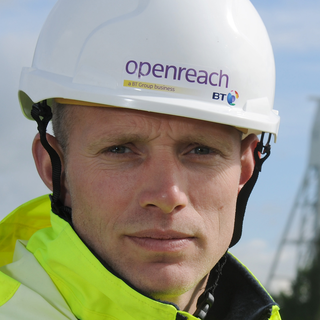eye: (95, 138, 144, 163), (176, 138, 224, 163)
